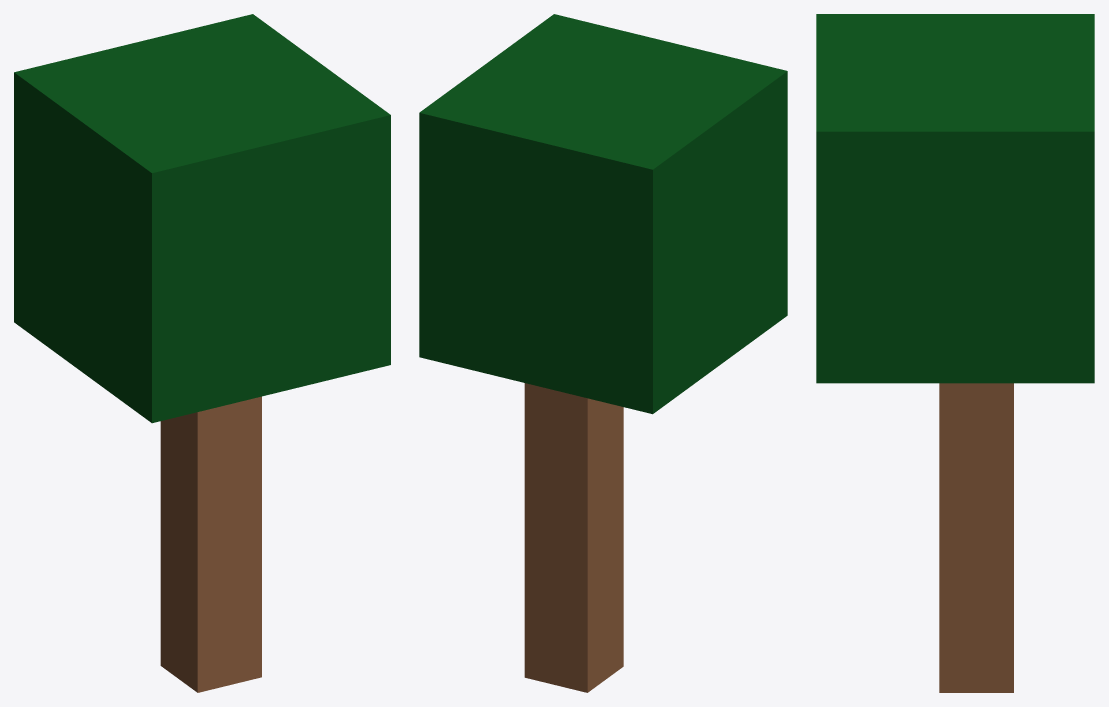
The model's file is tree_38.glb.
3 renders of one model, left to right at view 1: azimuth 30°, elevation 25°; view 2: azimuth 150°, elevation 25°; view 3: azimuth 270°, elevation 25°, orthographic. The views are drawn at different scales.
Visible parts, largest first — view 1: body; view 2: body; view 3: body.
Boxes of the visible parts, bbox=[...] form: body: bbox=[14, 14, 390, 692]; body: bbox=[419, 14, 787, 692]; body: bbox=[816, 14, 1094, 692].
Bounding box in the file's own units: 0.5068 × 1.2 × 0.5068.
